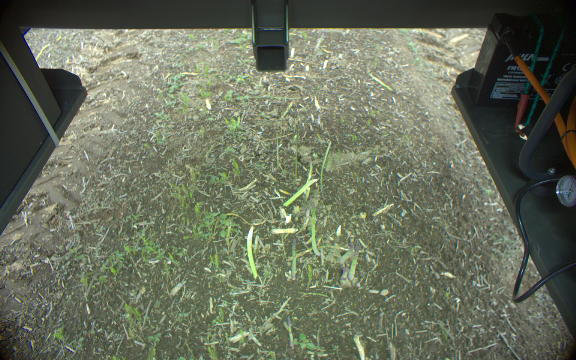aspa: (242, 227, 263, 282), (284, 177, 320, 206), (307, 209, 322, 258), (279, 312, 297, 351), (346, 242, 361, 286), (288, 238, 300, 282), (339, 241, 353, 264), (336, 265, 349, 286)
